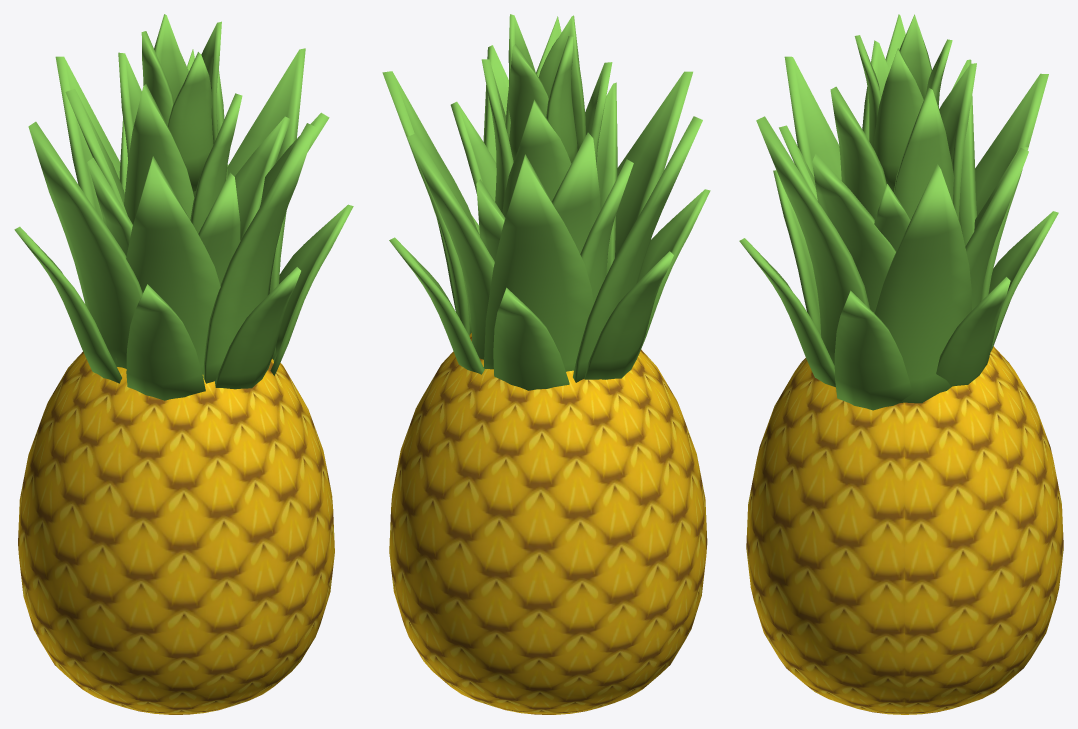
File: Pineapple.fbx
3 renders of one model, left to right at view 1: azimuth 30°, elevation 25°; view 2: azimuth 150°, elevation 25°; view 3: azimuth 270°, elevation 25°, orthographic.
Parts seen in each view (by area): view 1: Pineapple; view 2: Pineapple; view 3: Pineapple.
Part boxes in pixels (x1,y1,x2,y2): Pineapple: [14, 14, 353, 714]; Pineapple: [382, 14, 710, 714]; Pineapple: [739, 14, 1063, 714].
Bounding box in the file's own units: 12.31 × 25.94 × 11.52.
